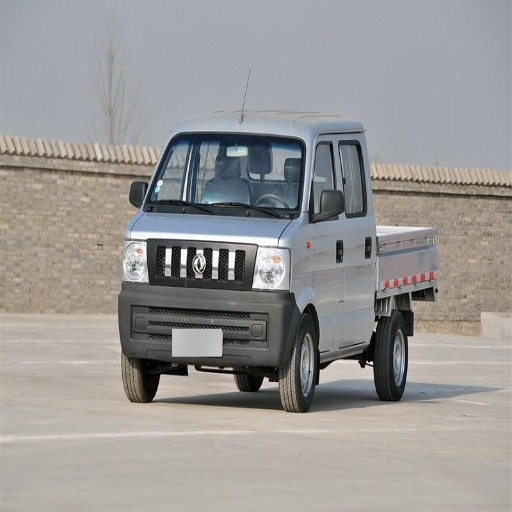front_bumper: (124, 239, 298, 370)
front_glass: (143, 135, 302, 217)
front_left_door: (308, 139, 349, 347)
trunk: (373, 253, 409, 307)
